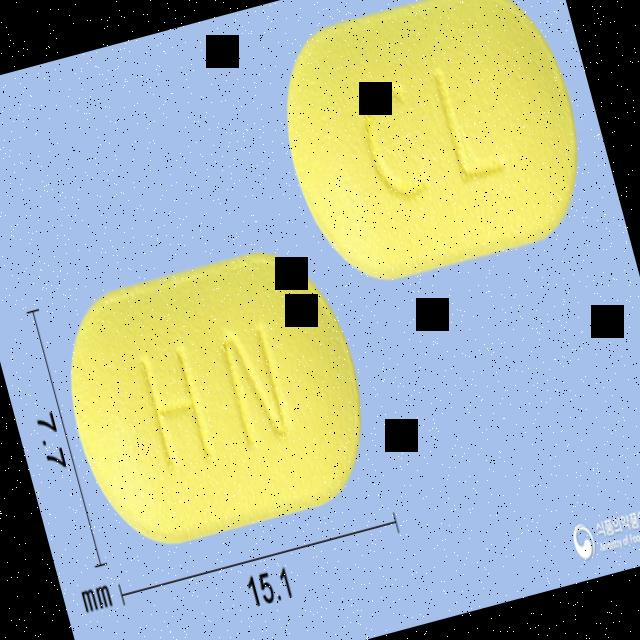Cyclin: (40, 228, 387, 560), (259, 0, 606, 301)
